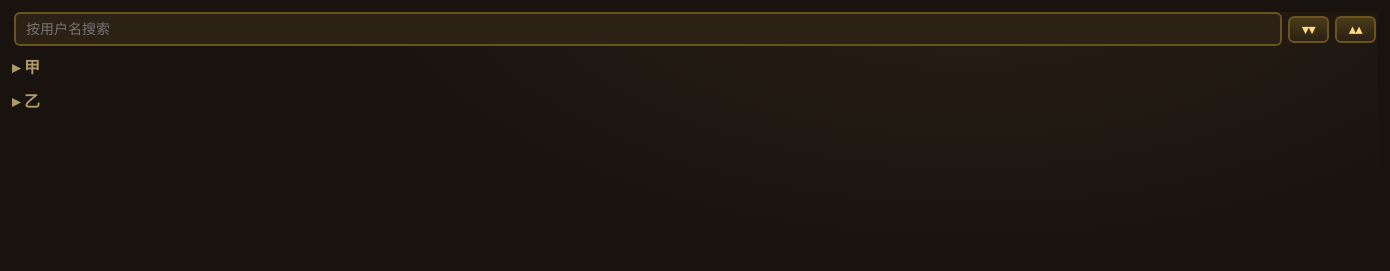
RosterPool › 收起/展开指示符：默认收起 ▸、点击展开 ▾
Click the element showing "▸ 甲": coordinates (26, 67) [12,56,40,78]
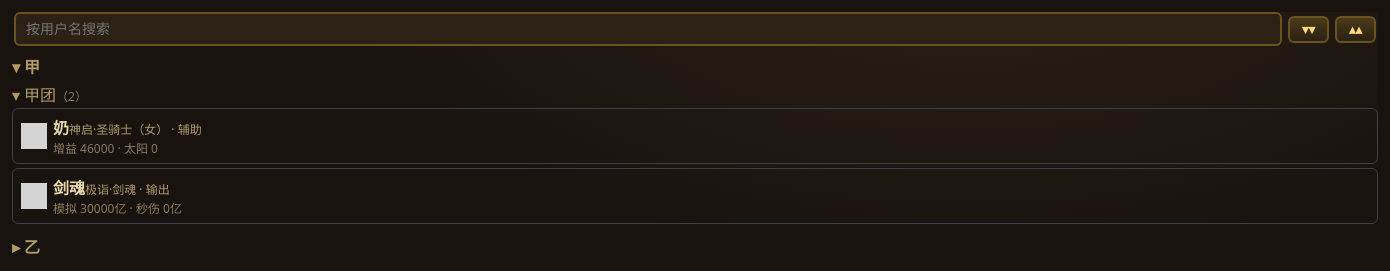
Now the element showing "▾ 甲" is shown, box [12,56,40,78]
